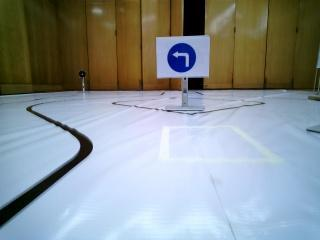left: (159, 39, 206, 76)
